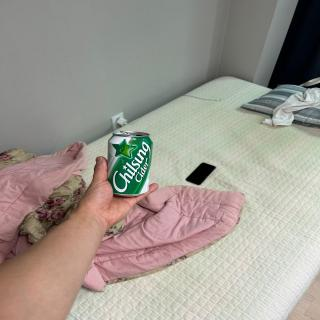chilsung: (105, 129, 155, 198)
